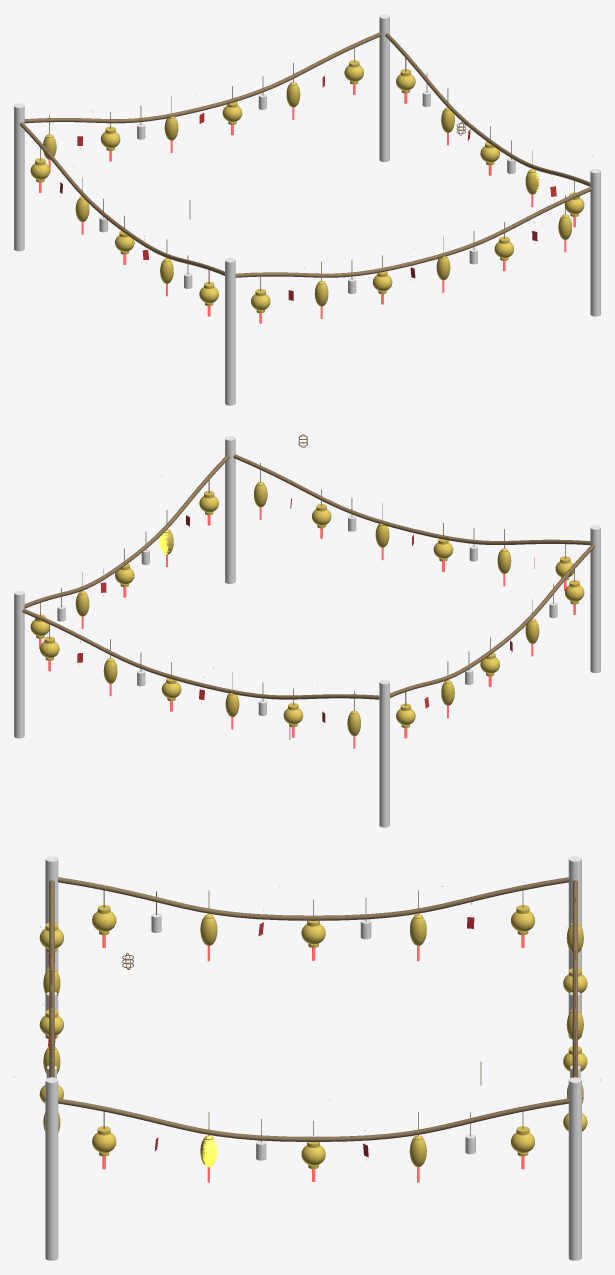
The model's file is trangtri.glb.
3 views of the same model, one above another, from view 1: azimuth 30°, elevation 25°; view 2: azimuth 150°, elevation 25°; view 3: azimuth 270°, elevation 25° (orthographic). The views are drawn at different scales.
Visible parts, largest first — view 1: Rope_Front, Rope_Back, Pole_0, Pole_1, Pole_3, Pole_2, Rope_Right, Rope_Left; view 2: Rope_Back, Rope_Front, Pole_3, Pole_2, Pole_0, Pole_1, Rope_Right, Rope_Left; view 3: Rope_Left, Rope_Right, Pole_1, Pole_2, Rope_Front, Rope_Back, Pole_0, Pole_3.
Boxes of the visible parts, bbox=[...] form: Rope_Front: bbox=[235, 186, 592, 277]; Rope_Back: bbox=[24, 32, 381, 123]; Pole_0: bbox=[225, 258, 235, 405]; Pole_1: bbox=[590, 168, 600, 316]; Pole_3: bbox=[14, 103, 24, 251]; Pole_2: bbox=[379, 14, 389, 161]; Rope_Right: bbox=[385, 33, 590, 186]; Rope_Left: bbox=[20, 122, 224, 275]; Rope_Back: bbox=[22, 608, 379, 699]; Rope_Front: bbox=[233, 454, 590, 545]; Pole_3: bbox=[379, 679, 389, 827]; Pole_2: bbox=[14, 590, 24, 738]; Pole_0: bbox=[590, 525, 600, 672]; Pole_1: bbox=[225, 436, 235, 583]; Rope_Right: bbox=[24, 455, 229, 608]; Rope_Left: bbox=[390, 544, 594, 697]; Rope_Left: bbox=[58, 877, 569, 920]; Rope_Right: bbox=[58, 1098, 569, 1141]; Pole_1: bbox=[45, 1077, 58, 1260]; Pole_2: bbox=[568, 1077, 581, 1260]; Rope_Front: bbox=[49, 880, 54, 1077]; Rope_Back: bbox=[572, 880, 577, 1077]; Pole_0: bbox=[45, 856, 58, 1038]; Pole_3: bbox=[568, 856, 581, 1038].
Size of the model in its own units: 13.74 by 6.12 by 13.46.
